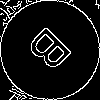B: (25, 25, 81, 81)
